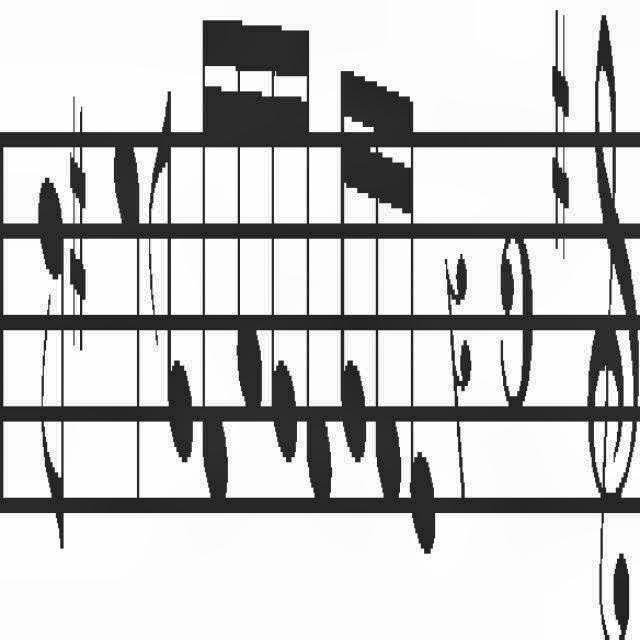Bass-clef: (583, 0, 640, 640), (639, 0, 640, 640)
Diez: (546, 0, 574, 268), (66, 78, 88, 348)
Eighth-note: (146, 70, 194, 502), (33, 163, 65, 574)
Quarter-note: (100, 101, 144, 543)
Sixteenth-note: (404, 70, 444, 558), (297, 3, 331, 533), (198, 1, 230, 536), (266, 0, 301, 480), (370, 66, 402, 522), (339, 50, 369, 486), (235, 0, 260, 444)
